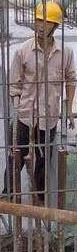boots: (0, 163, 13, 175)
hard-hat: (0, 0, 39, 22)
